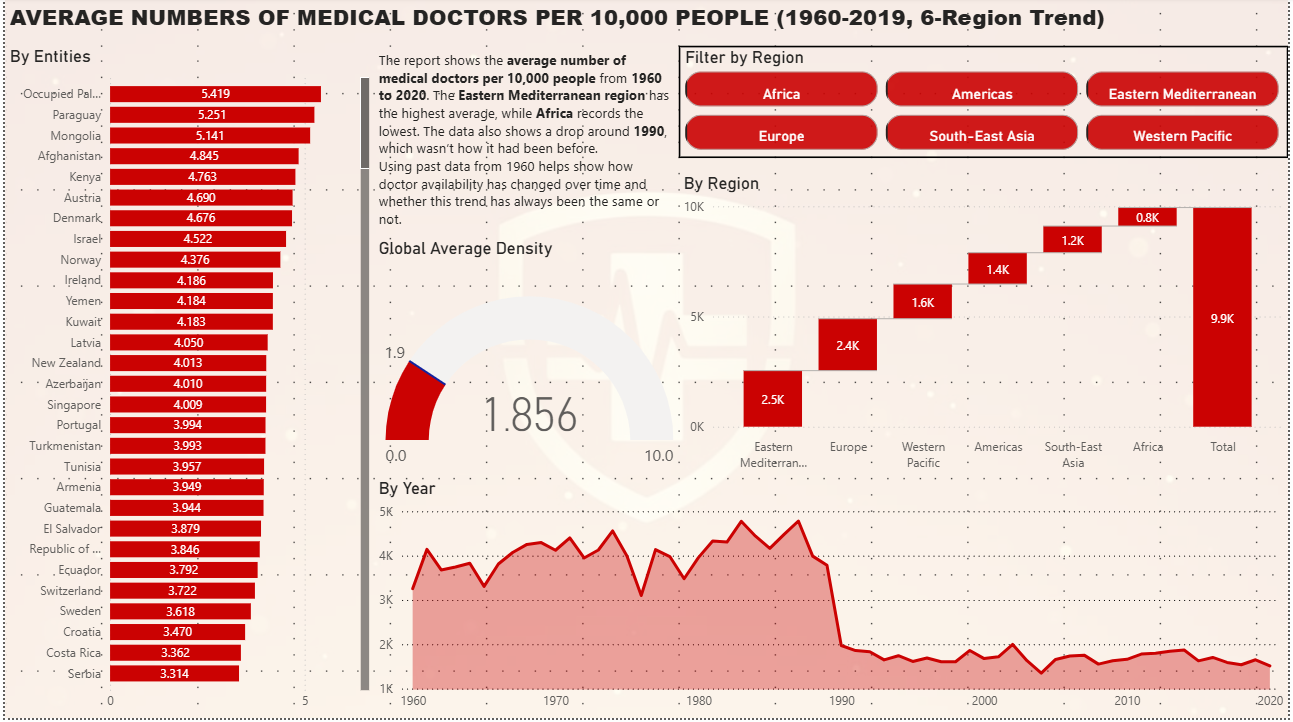

This screenshot's page, from the dashboard's own definition file:
{"tool":"powerbi","page":{"name":"Average Medical doctors ","canvas":[1280,720],"ordinal":5},"visuals":[{"type":"waterfallChart","title":"By Region","fields":{"Category":["Sheet1.Country"],"Y":["Avg(Sheet1.FactValueNumeric)"]},"box":[672,176,608,304],"z":0},{"type":"stackedAreaChart","title":"By Year","fields":{"Category":["Sheet1.Year"],"Y":["Avg(Sheet1.FactValueNumeric)"]},"box":[368,480,912,240],"z":1000},{"type":"clusteredBarChart","title":"By Entities","fields":{"Category":["Sheet1.Location"],"Y":["Avg(Sheet1.% of doctors)"]},"box":[0,48,368,672],"z":2000},{"type":"gauge","title":"Global Average Density","fields":{"Y":["Avg(Sheet1.% of doctors)"]},"box":[368,240,304,272],"z":3000},{"type":"advancedSlicerVisual","title":"Filter by Region","fields":{"Values":["Sheet1.Country"]},"box":[672,48,608,112],"z":4000},{"type":"textbox","box":[0,0,1280,48],"z":5000},{"type":"textbox","box":[368,48,304,192],"z":6000}]}

Visuals, with their boxes in screenshot pixels (x1, y1, x2, y2), scaled from the page's 1280x720 canvas onto the 1293x722 screenshot:
"By Region" waterfallChart: detection(679, 176, 1292, 481)
"By Year" stackedAreaChart: detection(372, 481, 1292, 721)
"By Entities" clusteredBarChart: detection(0, 48, 372, 721)
"Global Average Density" gauge: detection(372, 241, 679, 513)
"Filter by Region" advancedSlicerVisual: detection(679, 48, 1292, 160)
textbox: detection(0, 0, 1292, 48)
textbox: detection(372, 48, 679, 241)
